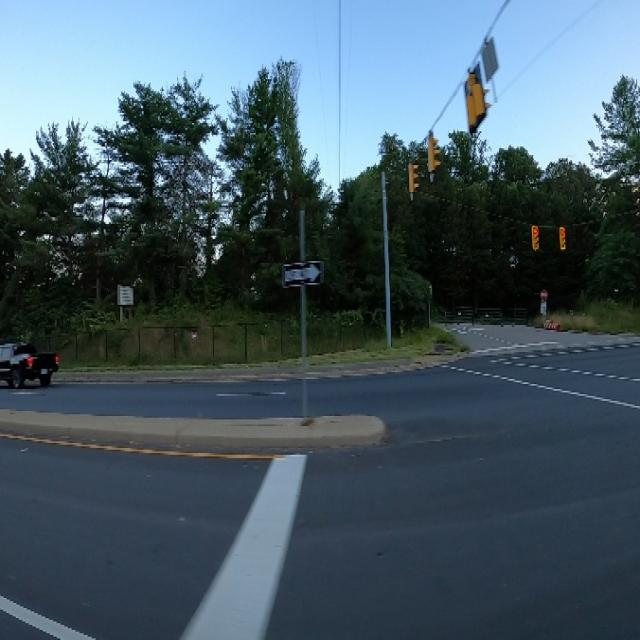car: (0, 325, 67, 399)
